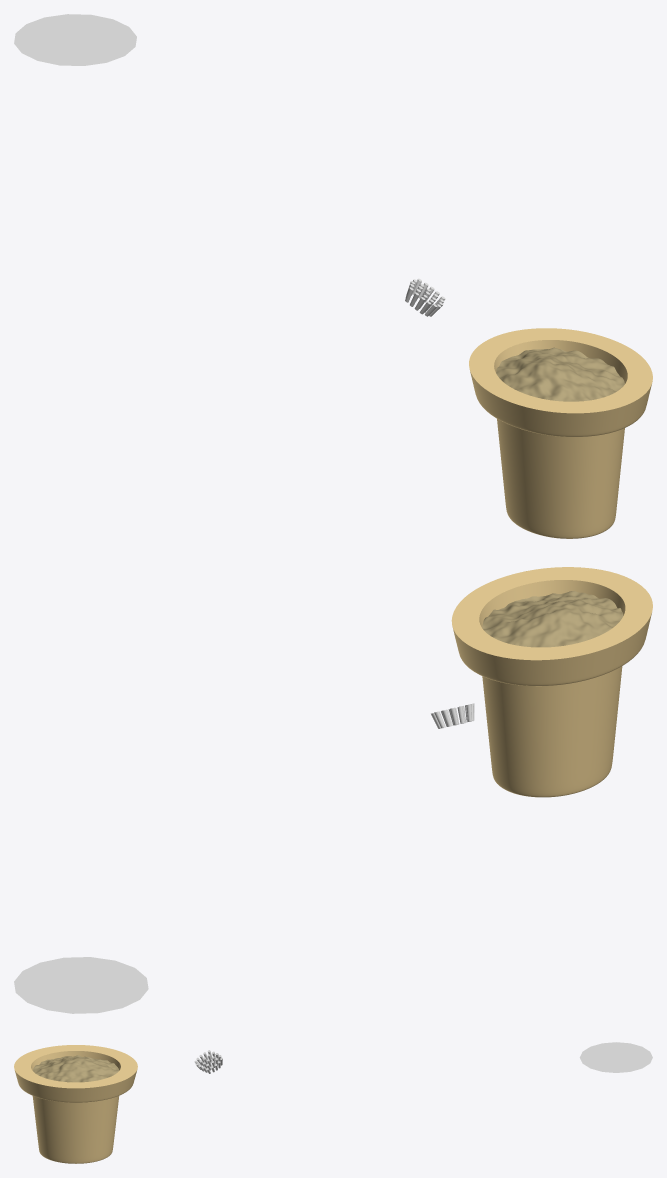
The model's file is Vaso 1 (sem girassol t-t).fbx.
3 views of the same model, one above another, from view 1: azimuth 30°, elevation 25°; view 2: azimuth 150°, elevation 25°; view 3: azimuth 270°, elevation 25° (orthographic). The views are drawn at different scales.
Visible parts, largest first — view 1: Vaso 1, Terra, Circle, buracos.001; view 2: Vaso 1, Circle, Terra, buracos.001; view 3: Vaso 1, Circle, Terra, buracos.001.
Part boxes in pixels (<box>): Vaso 1: <box>469,328,652,538</box>; Terra: <box>496,347,624,401</box>; Circle: <box>14,14,136,65</box>; buracos.001: <box>405,278,445,316</box>; Vaso 1: <box>451,567,652,797</box>; Circle: <box>14,957,148,1013</box>; Terra: <box>482,591,623,647</box>; buracos.001: <box>431,703,474,728</box>; Vaso 1: <box>14,1045,137,1163</box>; Circle: <box>579,1042,652,1072</box>; Terra: <box>33,1055,119,1082</box>; buracos.001: <box>194,1050,222,1073</box>.
Bounding box in the file's own units: 375 × 349 × 2247.
